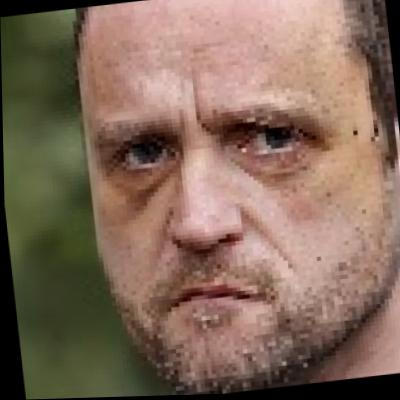angry: (75, 0, 398, 382)
